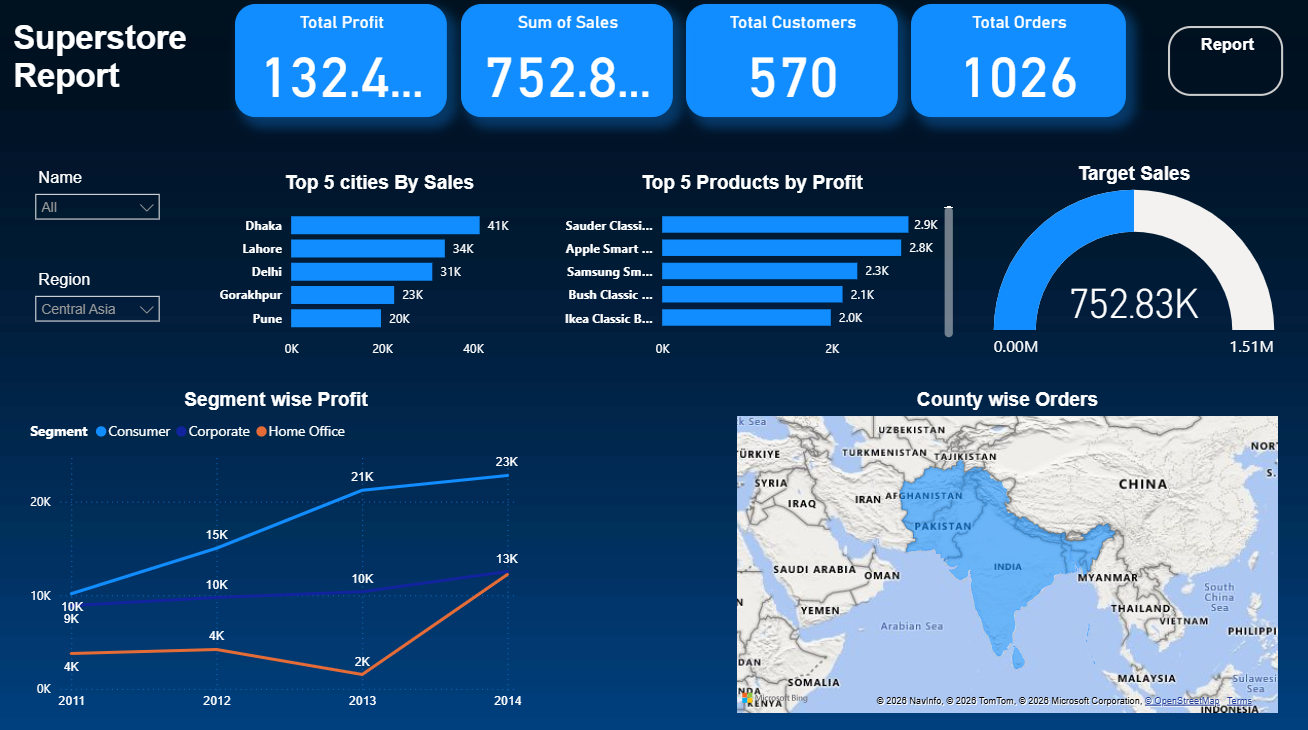

The page's visual inventory and layout, read from the dashboard file:
{"tool":"powerbi","page":{"name":"Page 1","canvas":[1280,720],"ordinal":0},"visuals":[{"type":"barChart","title":"Top 5 cities By Sales","fields":{"Category":["Orders.City"],"Y":["Sum(Orders.Sales)"]},"box":[213,170.2,323.9,189.7],"z":0},{"type":"card","title":"Total Customers","fields":{"Values":["Count(Orders.Customer Name)"]},"box":[673.1,6.8,206.2,109.9],"z":1000},{"type":"card","title":"Total Orders","fields":{"Values":["Count(Orders.Order ID)"]},"box":[891.9,6.8,209.1,109.9],"z":2000},{"type":"card","title":"Sum of Sales","fields":{"Values":["Sum(Orders.Sales)"]},"box":[454.2,6.8,206.2,109.9],"z":3000},{"type":"card","title":"Total Profit","fields":{"Values":["Sum(Orders.Profit)"]},"box":[234.4,6.8,206.2,109.9],"z":4000},{"type":"gauge","title":"Target Sales","fields":{"Y":["Sum(Orders.Sales)"]},"box":[937.6,161.5,342.4,198.4],"z":5000},{"type":"barChart","title":"Top 5 Products by Profit","fields":{"Category":["Orders.Product Name"],"Y":["Sum(Orders.Profit)"]},"box":[536.9,170.2,400.7,189.7],"z":6000},{"type":"lineChart","title":"Segment wise Profit","fields":{"Category":["Orders.Order Date.Variation.Date Hierarchy.Year"],"Y":["Sum(Orders.Profit)"],"Series":["Orders.Segment"]},"box":[30.2,381.3,488.3,320],"z":7000},{"type":"filledMap","title":"County wise Orders","fields":{"Category":["Orders.Country"]},"box":[717.8,381.3,535.9,320],"z":8000},{"type":"slicer","fields":{"Values":["Employees.Name"]},"box":[30.2,161.5,141,69.1],"z":9000},{"type":"slicer","fields":{"Values":["Employees.Region"]},"box":[30.2,260.7,141,69.1],"z":10000},{"type":"shape","title":"Report","box":[1141.9,28.2,111.9,68.1],"z":11000},{"type":"textbox","box":[13.6,0,230.5,135.2],"z":12000}]}

Visuals, with their boxes in screenshot pixels (x1, y1, x2, y2), scaled from the page's 1280x720 canvas onto the 1308x730 screenshot:
"Top 5 cities By Sales" barChart: x1=218, y1=173, x2=549, y2=365
"Total Customers" card: x1=688, y1=7, x2=899, y2=118
"Total Orders" card: x1=911, y1=7, x2=1125, y2=118
"Sum of Sales" card: x1=464, y1=7, x2=675, y2=118
"Total Profit" card: x1=240, y1=7, x2=450, y2=118
"Target Sales" gauge: x1=958, y1=164, x2=1307, y2=365
"Top 5 Products by Profit" barChart: x1=549, y1=173, x2=958, y2=365
"Segment wise Profit" lineChart: x1=31, y1=387, x2=530, y2=711
"County wise Orders" filledMap: x1=734, y1=387, x2=1281, y2=711
slicer - Employees.Name: x1=31, y1=164, x2=175, y2=234
slicer - Employees.Region: x1=31, y1=264, x2=175, y2=334
"Report" shape: x1=1167, y1=29, x2=1281, y2=98
textbox: x1=14, y1=0, x2=249, y2=137
